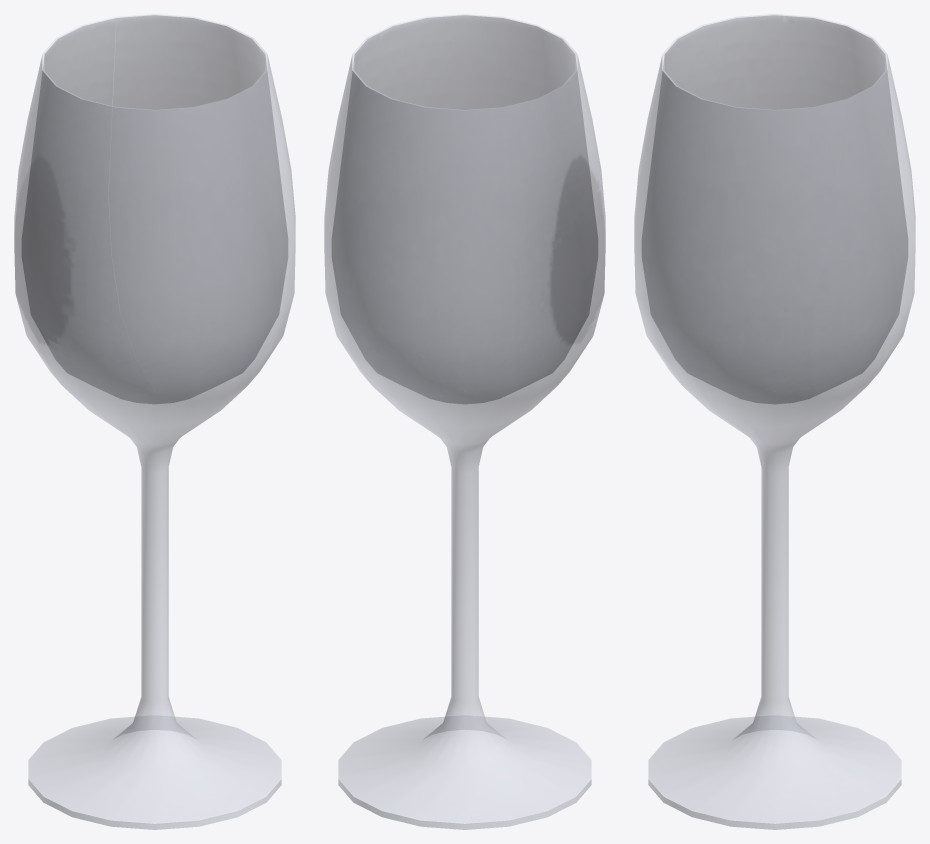
The model's file is SM_Wine_Glass_02.glb.
3 views of the same model, side by side, from view 1: azimuth 30°, elevation 25°; view 2: azimuth 150°, elevation 25°; view 3: azimuth 270°, elevation 25° (orthographic).
Visible parts, largest first — view 1: SM_Wine_Glass_02; view 2: SM_Wine_Glass_02; view 3: SM_Wine_Glass_02.
Boxes of the visible parts, x1,y1,x2,y2 form: SM_Wine_Glass_02: (14,14,295,829); SM_Wine_Glass_02: (324,14,605,829); SM_Wine_Glass_02: (634,14,915,829).
Size of the model in its own units: 0.0815 by 0.2244 by 0.0803.
1 material, 1 textured.
